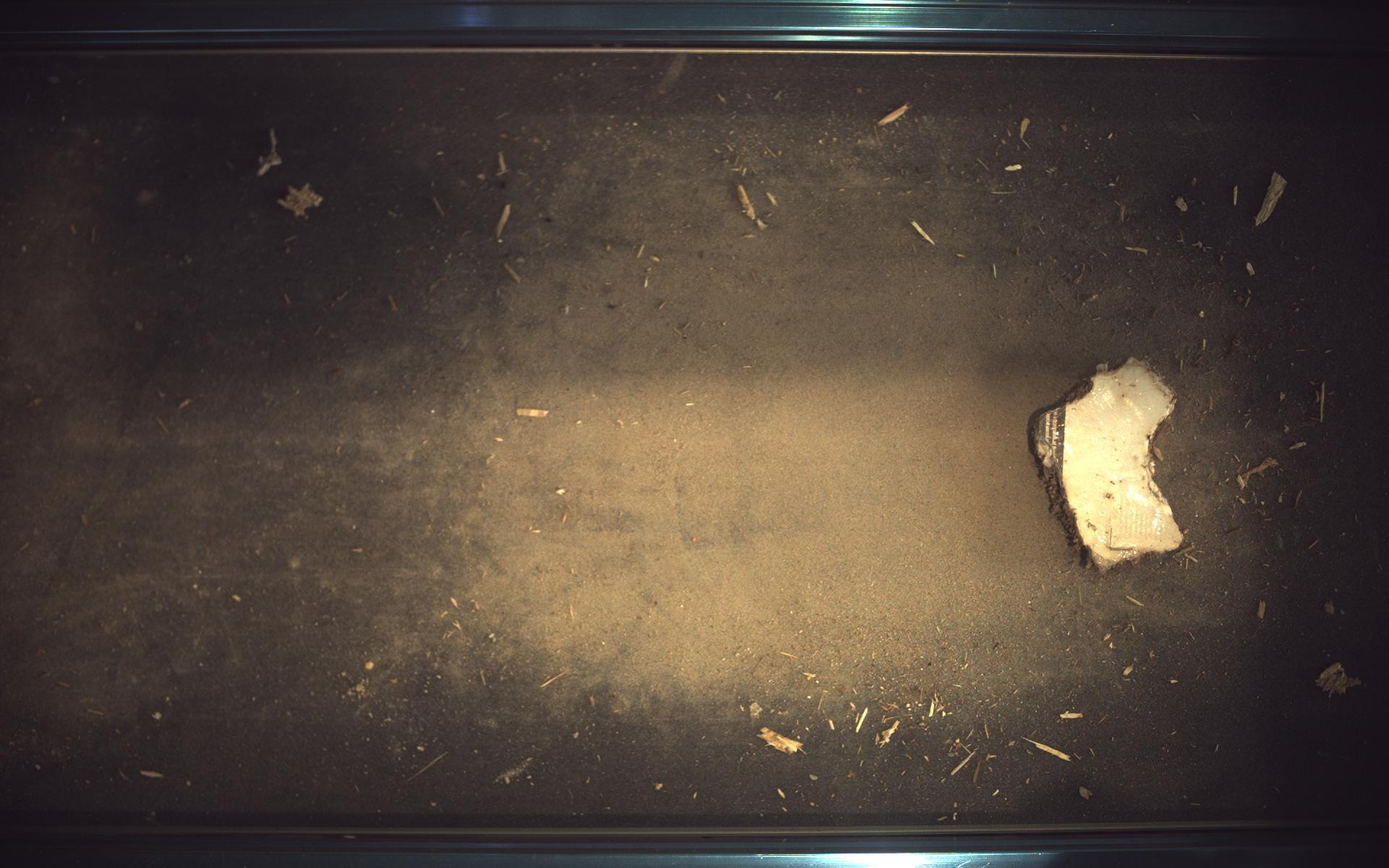wood: (1031, 357, 1186, 571)
